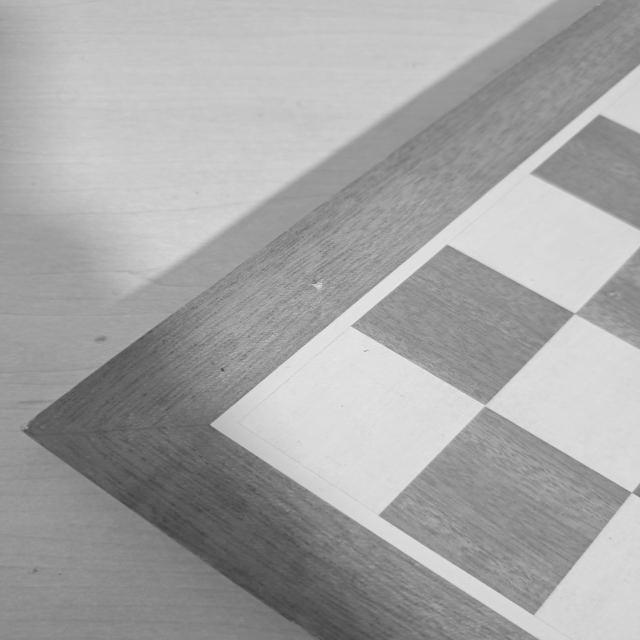chess-table-corners: (191, 386, 287, 459)
